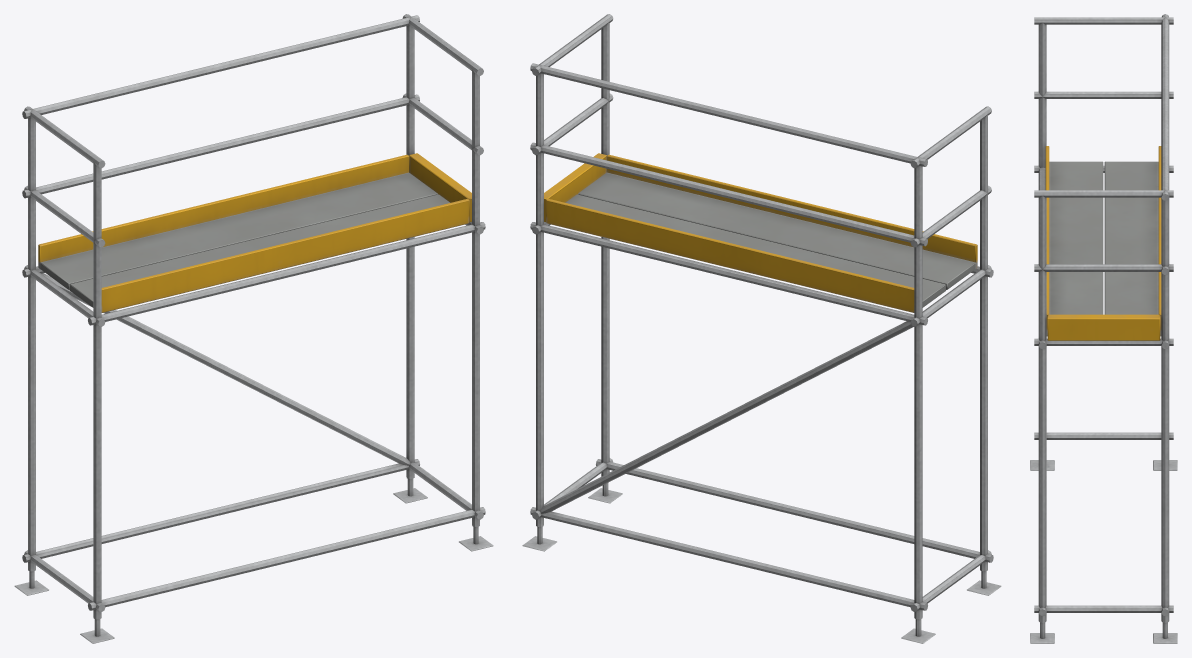
The model's file is BlockScaffold.fbx.
3 views of the same model, side by side, from view 1: azimuth 30°, elevation 25°; view 2: azimuth 150°, elevation 25°; view 3: azimuth 270°, elevation 25° (orthographic). The views are drawn at different scales.
Parts seen in each view (by area): view 1: BlockScaffold_LOD0; view 2: BlockScaffold_LOD0; view 3: BlockScaffold_LOD0.
Boxes of the visible parts, left/top/right/bottom form: BlockScaffold_LOD0: left=14, top=14, right=493, bottom=643; BlockScaffold_LOD0: left=522, top=14, right=1001, bottom=643; BlockScaffold_LOD0: left=1030, top=14, right=1177, bottom=643.
Size of what is drawn, in the model's own units: 2.65 by 3.02 by 0.9.
Materials: 1 (1 with a texture image).
